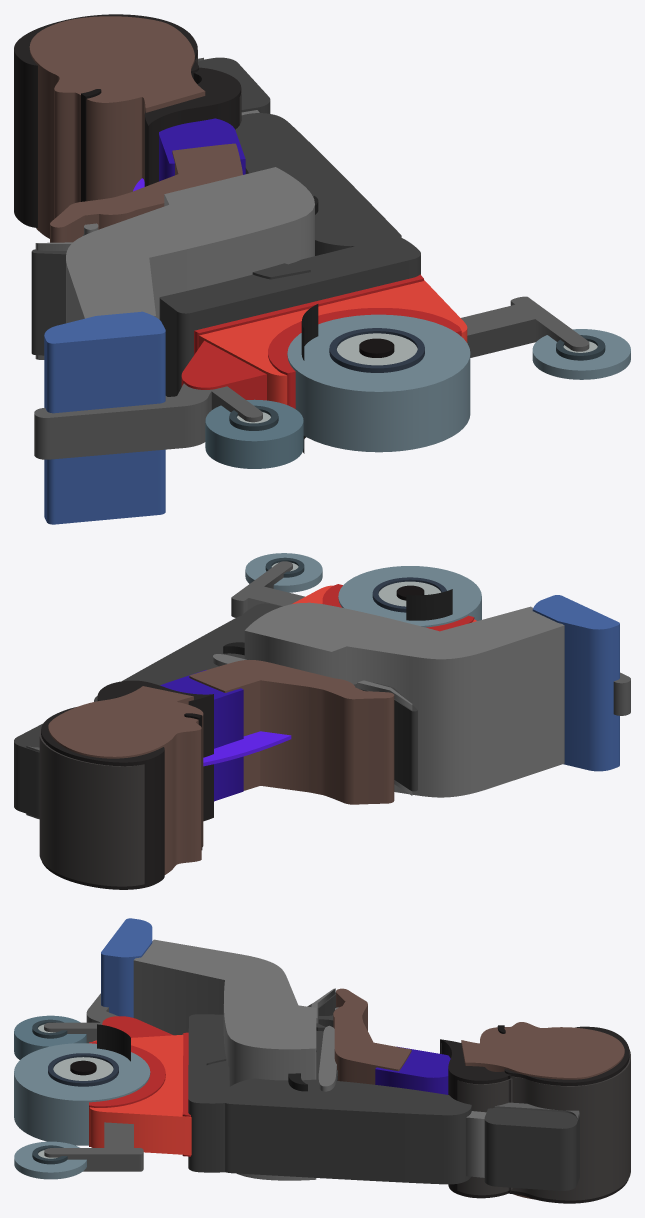
Rendered from emoji_u1f469_1f3ff_200d_1f9bc.glb.
The picture shows the model from 3 angles, top to bottom: view 1: azimuth 30°, elevation 25°; view 2: azimuth 150°, elevation 25°; view 3: azimuth 270°, elevation 25°; orthographic projection. The views are drawn at different scales.
Parts seen in each view (by area): view 1: emoji_u1f469_1f3ff_200d_1f9bc; view 2: emoji_u1f469_1f3ff_200d_1f9bc; view 3: emoji_u1f469_1f3ff_200d_1f9bc.
Part boxes in pixels (left/top/right/bottom): emoji_u1f469_1f3ff_200d_1f9bc: left=14, top=14, right=630, bottom=524; emoji_u1f469_1f3ff_200d_1f9bc: left=14, top=553, right=630, bottom=889; emoji_u1f469_1f3ff_200d_1f9bc: left=14, top=918, right=630, bottom=1203.
Bounding box in the file's own units: 0.0242 × 0.0078 × 0.0324.
